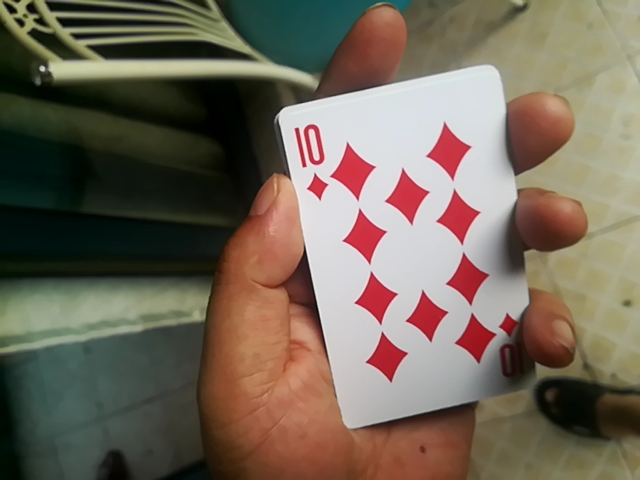fk 10: (290, 55, 532, 447)
